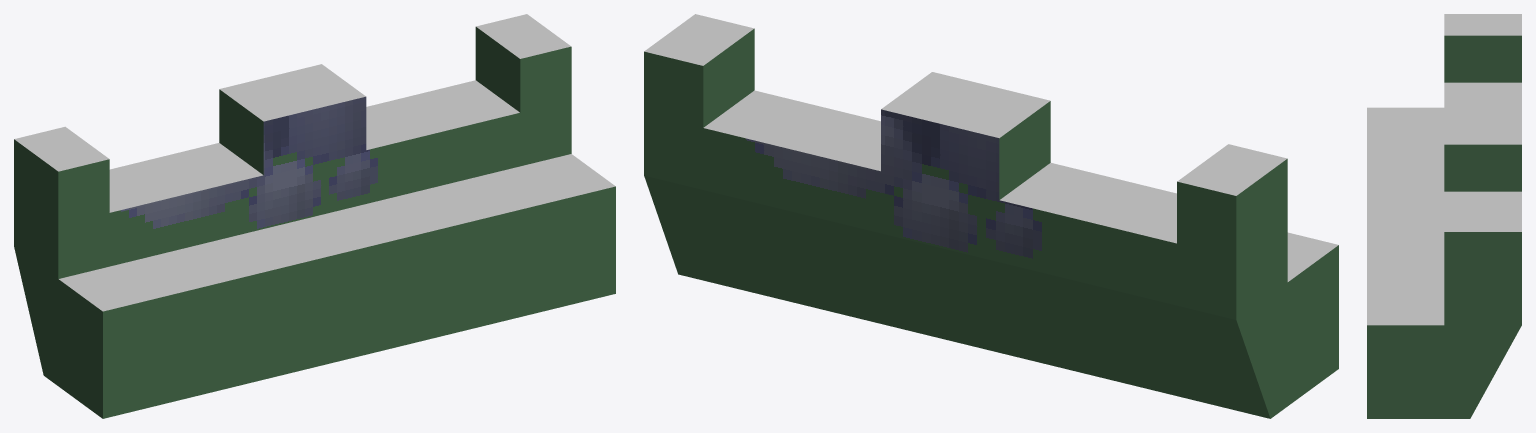
Rendered from battlement.dae.
The picture shows the model from 3 angles, left to right: view 1: azimuth 30°, elevation 25°; view 2: azimuth 150°, elevation 25°; view 3: azimuth 270°, elevation 25°; orthographic projection. The views are drawn at different scales.
Visible parts, largest first — view 1: battlement; view 2: battlement; view 3: battlement.
Part boxes in pixels (x1,y1,x2,y2): battlement: [14, 14, 615, 418]; battlement: [644, 14, 1338, 418]; battlement: [1367, 14, 1521, 418].
Size of the model in its own units: 1 by 0.4 by 0.3.
